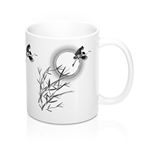cups: (22, 17, 136, 127)
